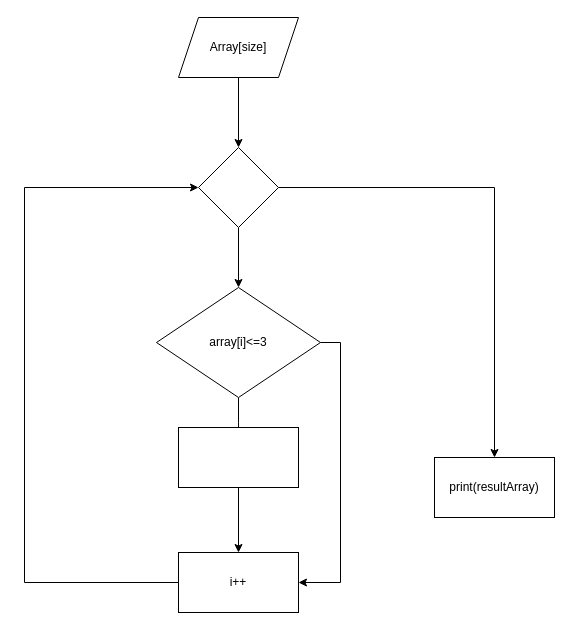
The diagram is 572 pixels wide and 630 high, and some of its shapes have lost their labels. Here are the shapes that lost their labels. From the top down, the box of each, then its label:
(198, 146, 278, 228): i<size
(178, 426, 298, 488): resultarray[i]=array[i]
